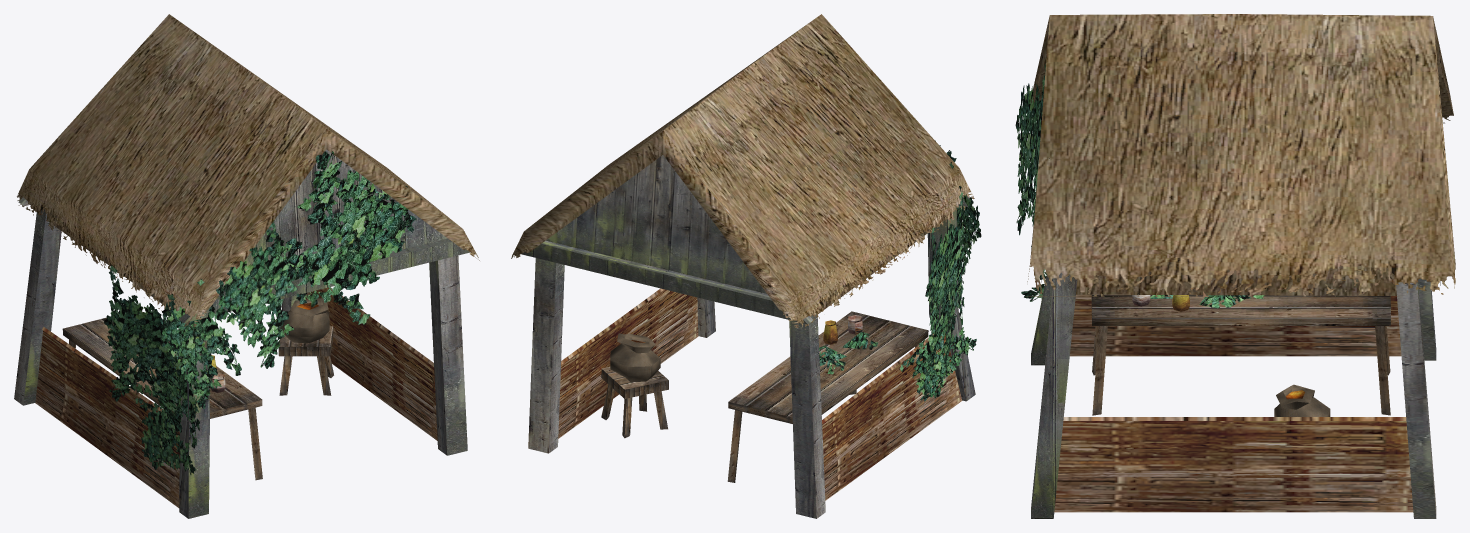
File: building_gardeners_hut.glb
3 views of the same model, side by side, from view 1: azimuth 30°, elevation 25°; view 2: azimuth 150°, elevation 25°; view 3: azimuth 270°, elevation 25° (orthographic). The views are drawn at different scales.
Parts seen in each view (by area): view 1: building_gardeners_hut; view 2: building_gardeners_hut; view 3: building_gardeners_hut.
Part boxes in pixels (box(x1,y1,x2,y2)): building_gardeners_hut: box(14, 14, 479, 518); building_gardeners_hut: box(511, 14, 981, 518); building_gardeners_hut: box(1015, 14, 1455, 518).
Bounding box in the file's own units: 4.31 × 4.61 × 4.27.
7 materials, 7 textured.
